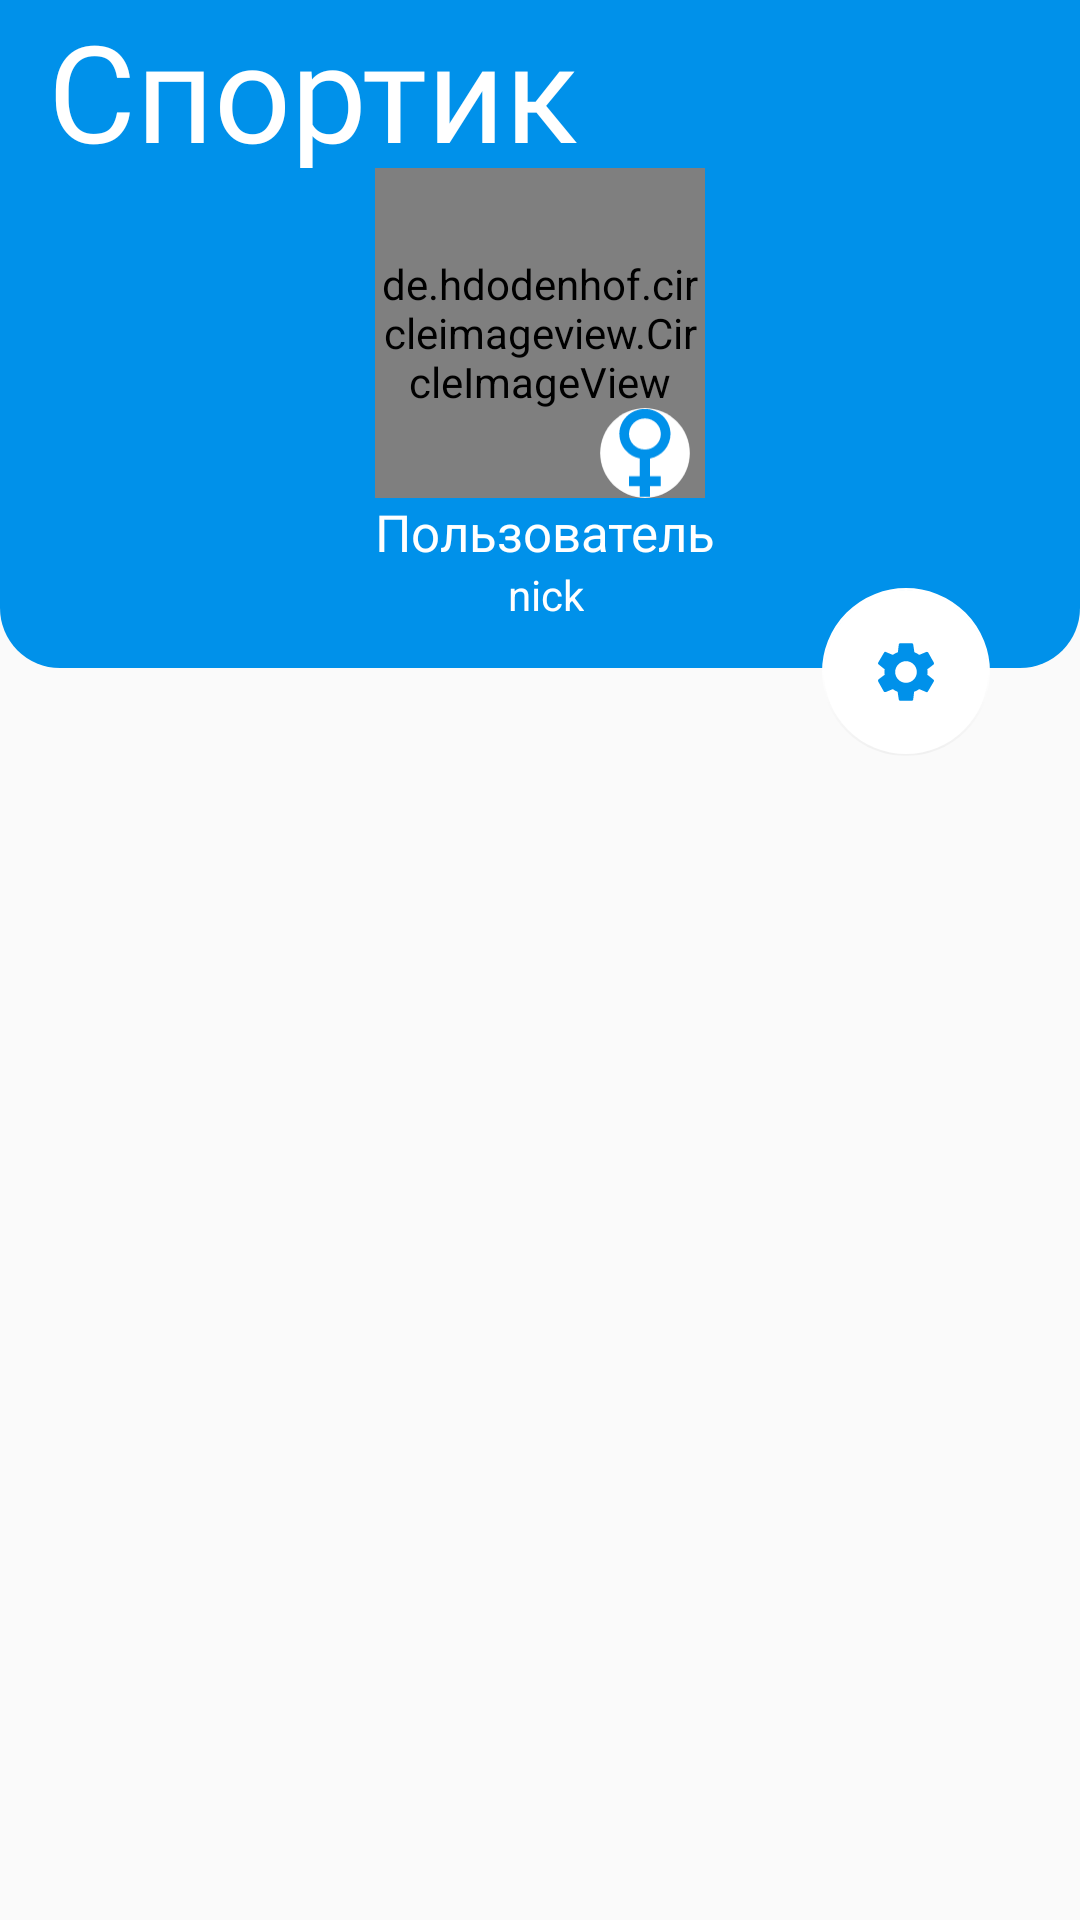

Icon click points for this 1080px x 1920px phone screenshot, format (x,y):
settings change: (906,672)
